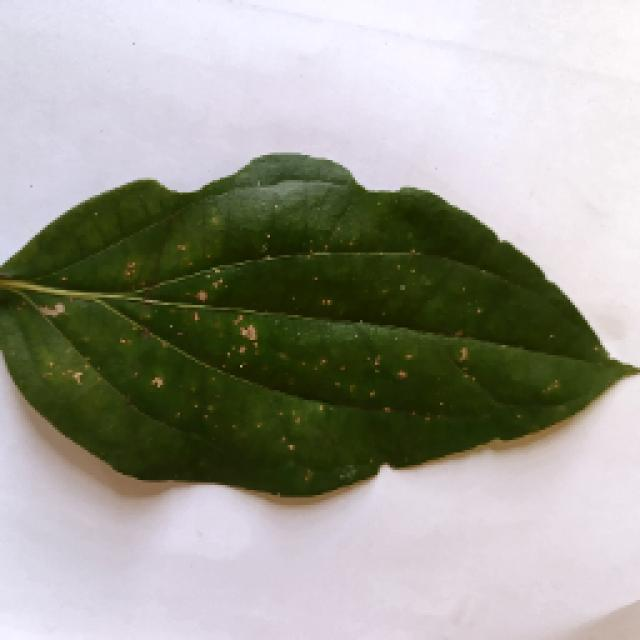pollu-disease: (0, 150, 628, 622)
